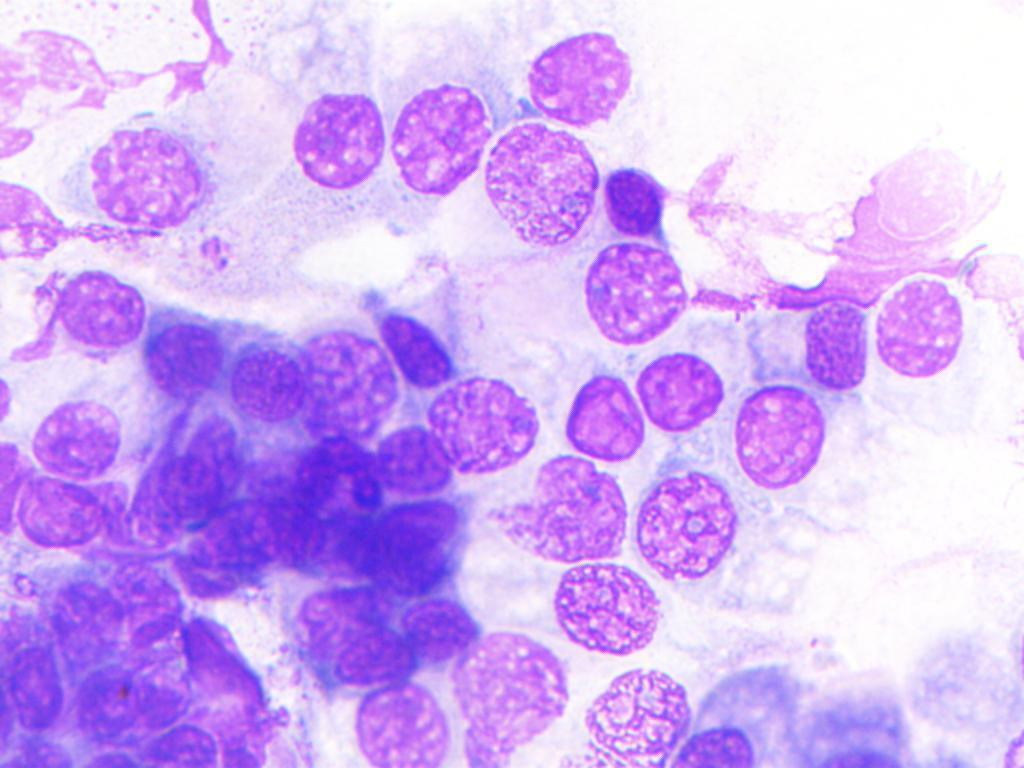epithelial: (431, 628, 582, 768), (63, 127, 225, 230), (513, 22, 656, 134), (511, 456, 638, 572), (287, 322, 402, 450), (565, 241, 692, 349), (624, 463, 737, 584), (724, 305, 880, 386), (391, 83, 494, 198), (729, 389, 822, 515), (425, 375, 547, 471), (876, 270, 967, 398), (537, 560, 655, 656), (587, 668, 696, 768), (33, 264, 152, 354), (18, 386, 125, 483), (289, 84, 389, 187), (124, 456, 222, 556), (189, 494, 296, 582), (344, 679, 444, 767), (628, 345, 722, 434), (378, 492, 469, 583), (377, 287, 458, 386), (560, 365, 641, 464), (594, 160, 688, 245), (139, 303, 222, 398), (46, 588, 126, 669), (109, 571, 182, 658), (20, 470, 99, 550), (378, 430, 467, 489), (402, 608, 491, 664), (329, 629, 418, 684), (138, 724, 247, 768), (17, 643, 67, 727), (299, 587, 396, 628), (77, 666, 130, 737), (138, 671, 190, 731)
